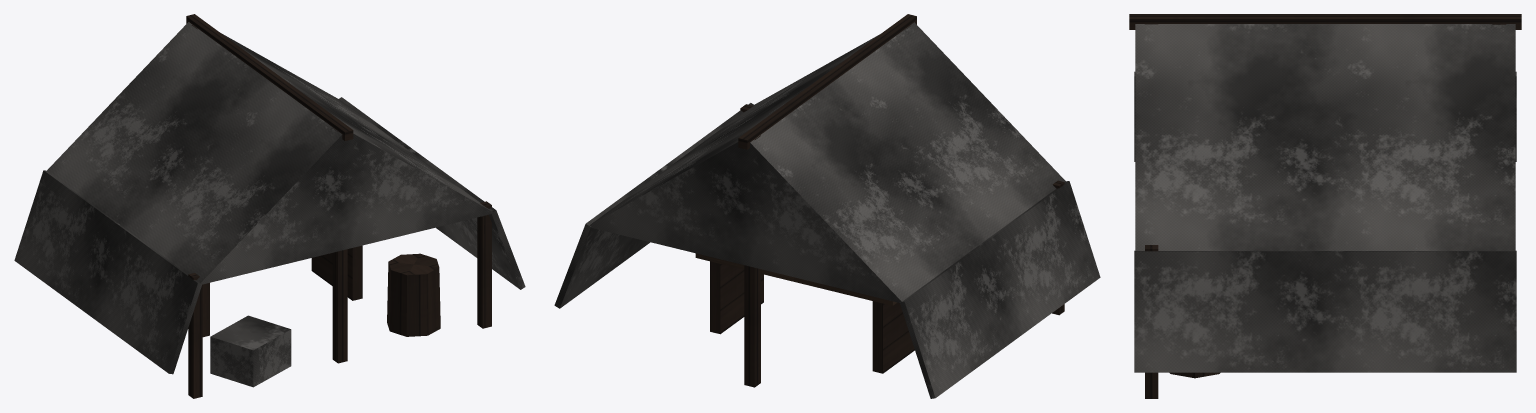
The model's file is PuestoCarpa.gltf.
3 renders of one model, left to right at view 1: azimuth 30°, elevation 25°; view 2: azimuth 150°, elevation 25°; view 3: azimuth 270°, elevation 25°, orthographic. The views are drawn at different scales.
Parts seen in each view (by area): view 1: PuestoCarpa; view 2: PuestoCarpa; view 3: PuestoCarpa.
Boxes of the visible parts, x1,y1,x2,y2 form: PuestoCarpa: (14, 14, 525, 398); PuestoCarpa: (554, 14, 1100, 398); PuestoCarpa: (1129, 14, 1521, 398).
Size of the model in its own units: 4.69 by 2.97 by 3.61.
Materials: 5 (3 with a texture image).
